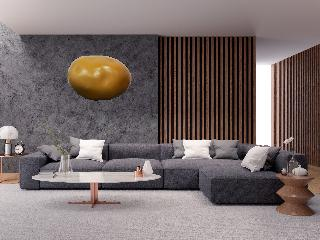potato: (66, 53, 138, 103)
